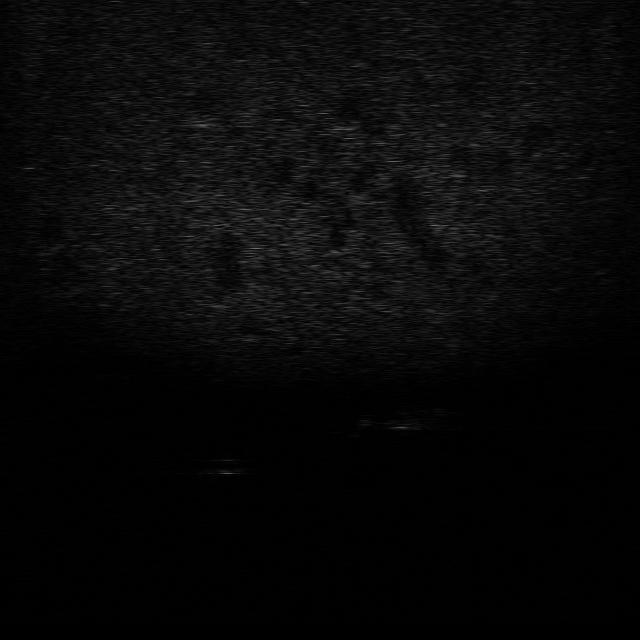ball: (198, 454, 252, 480)
human body: (348, 407, 462, 437)
